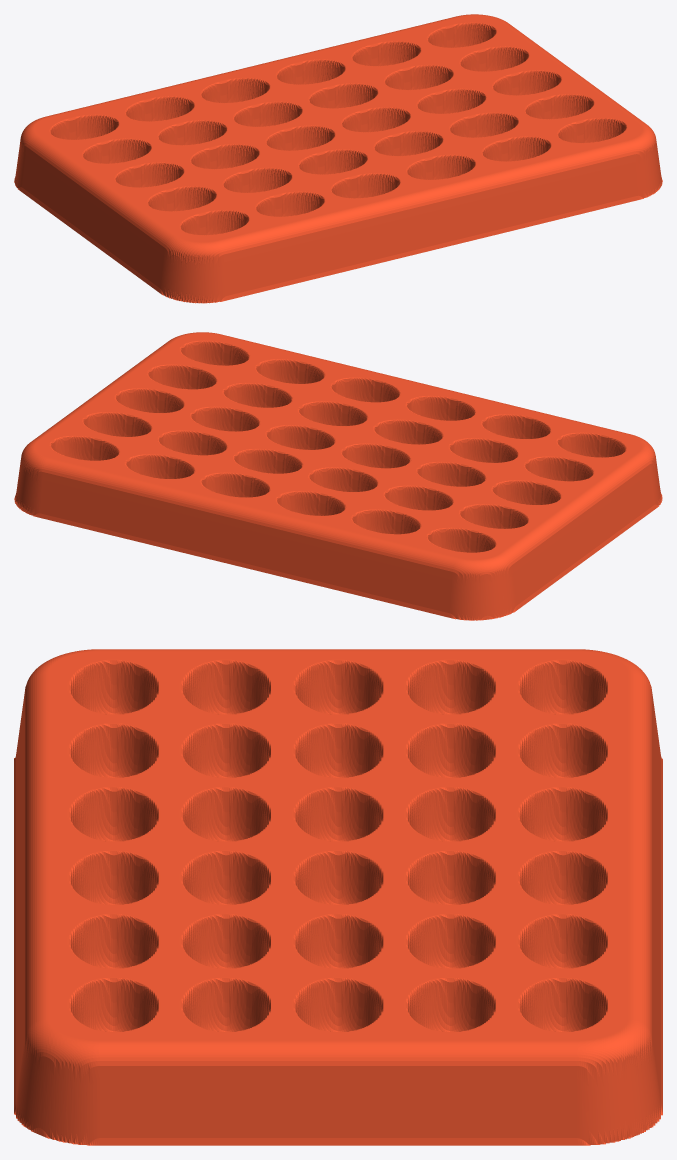
Rendered from mold.glb.
3 renders of one model, top to bottom at view 1: azimuth 30°, elevation 25°; view 2: azimuth 150°, elevation 25°; view 3: azimuth 270°, elevation 25°, orthographic. The views are drawn at different scales.
Visible parts, largest first — view 1: geometry_0; view 2: geometry_0; view 3: geometry_0.
Boxes of the visible parts, x1=… form: geometry_0: x1=14, y1=14, x2=662, y2=303; geometry_0: x1=14, y1=332, x2=662, y2=620; geometry_0: x1=14, y1=649, x2=662, y2=1145.
Size of the model in its own units: 0.104 by 0.0105 by 0.0682.
